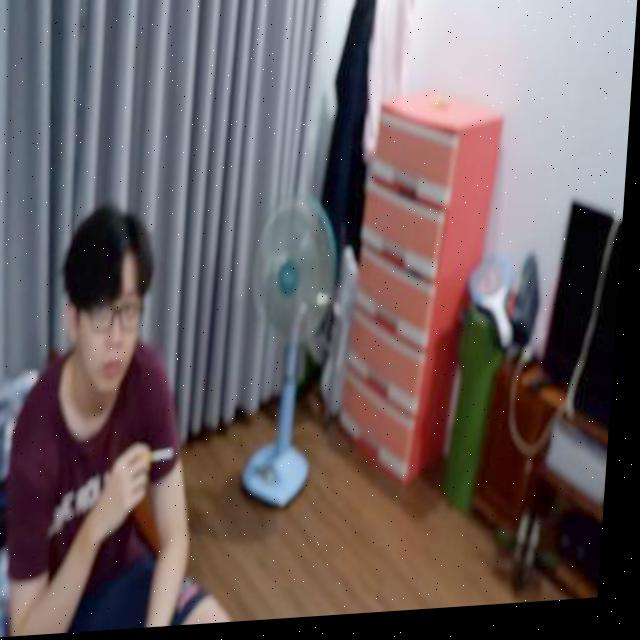cigarette: (155, 450, 180, 466)
